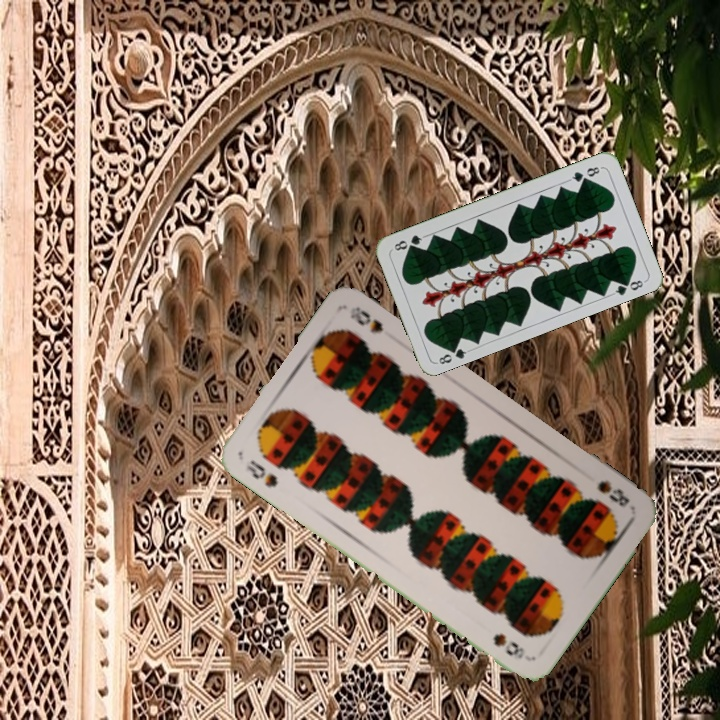G8: (435, 341, 472, 367), (565, 162, 604, 184)
S8: (241, 456, 281, 490), (593, 476, 632, 510)
